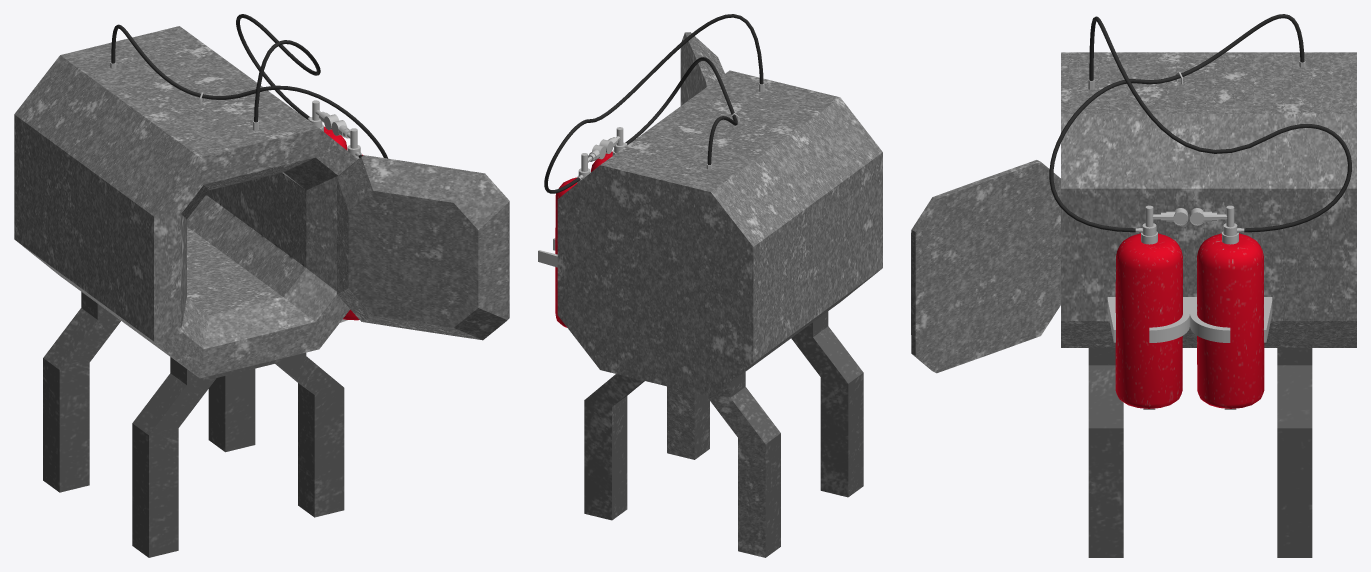
3 renders of one model, left to right at view 1: azimuth 30°, elevation 25°; view 2: azimuth 150°, elevation 25°; view 3: azimuth 270°, elevation 25°, orthographic. The views are drawn at different scales.
Visible parts, largest first — view 1: Cube.013_Baked; view 2: Cube.013_Baked; view 3: Cube.013_Baked.
Boxes of the visible parts, left/top/right/bottom form: Cube.013_Baked: left=14, top=14, right=509, bottom=557; Cube.013_Baked: left=538, top=14, right=882, bottom=557; Cube.013_Baked: left=911, top=14, right=1356, bottom=557.
Size of the model in its own units: 272 by 434 by 345.
Materials: 1 (1 with a texture image).
